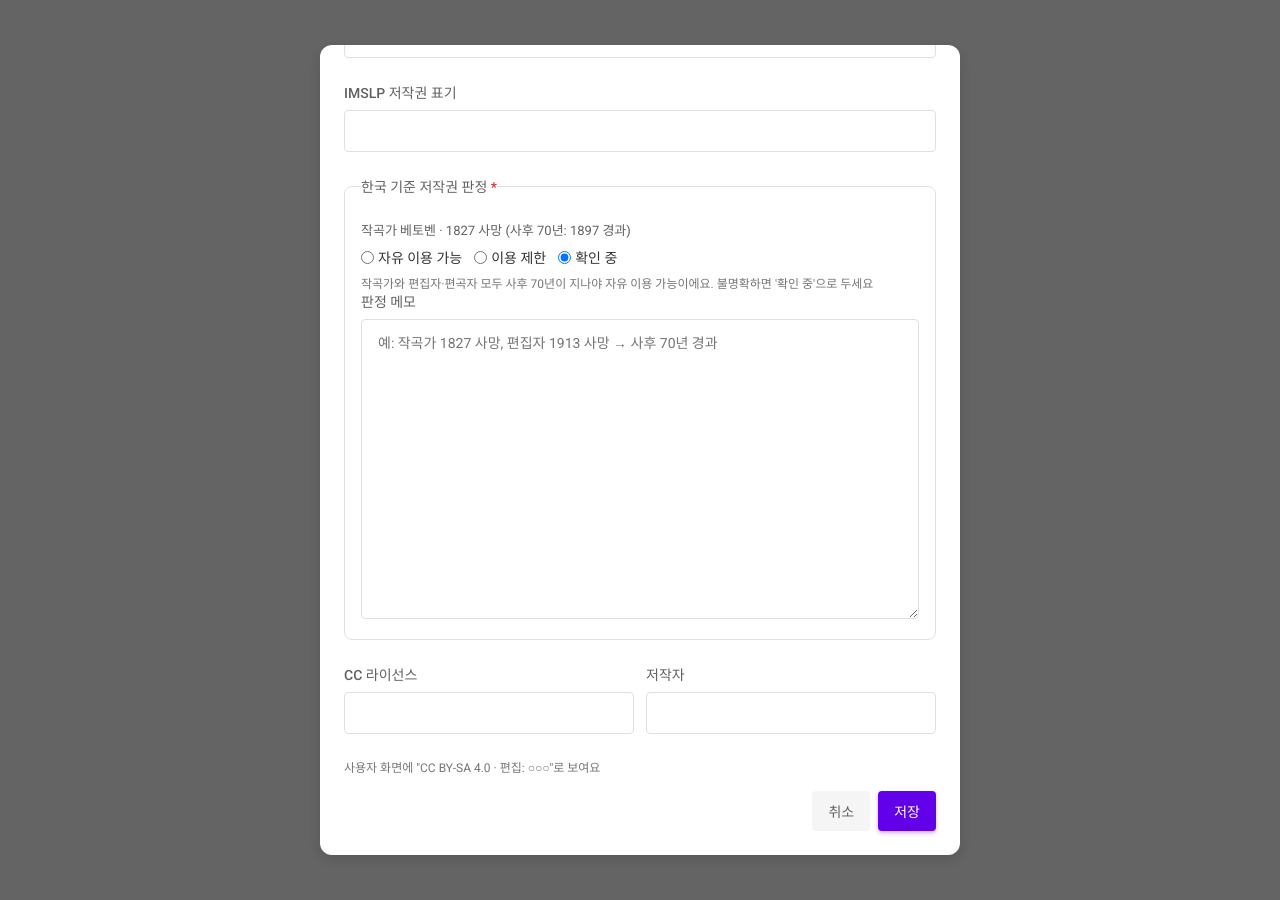
Test: EditionFormModal — 검증·저장 › 서버 검증 실패(400 VALIDATION_ERROR errors[]) → 해당 필드 문구
(page scrolled)
Click the button "저장".
click(907, 810)  # box [878, 790, 936, 830]
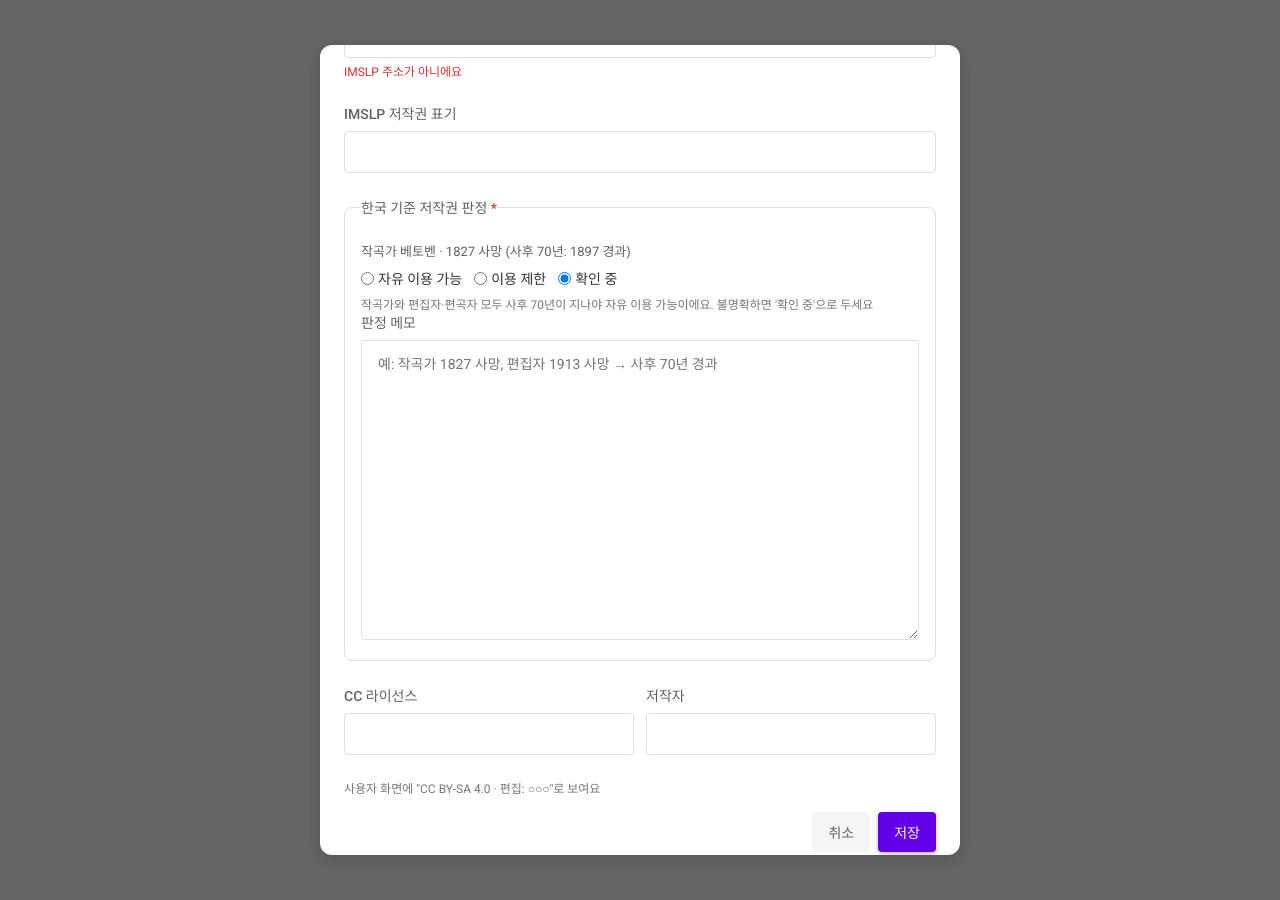
Expected: the text "IMSLP 주소가 아니에요" is shown, [344, 65, 462, 79]
